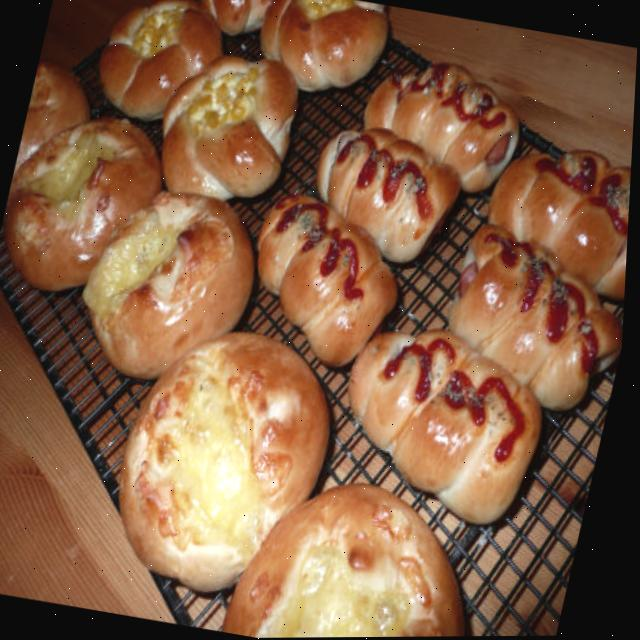三明治: (92, 299, 369, 600)
